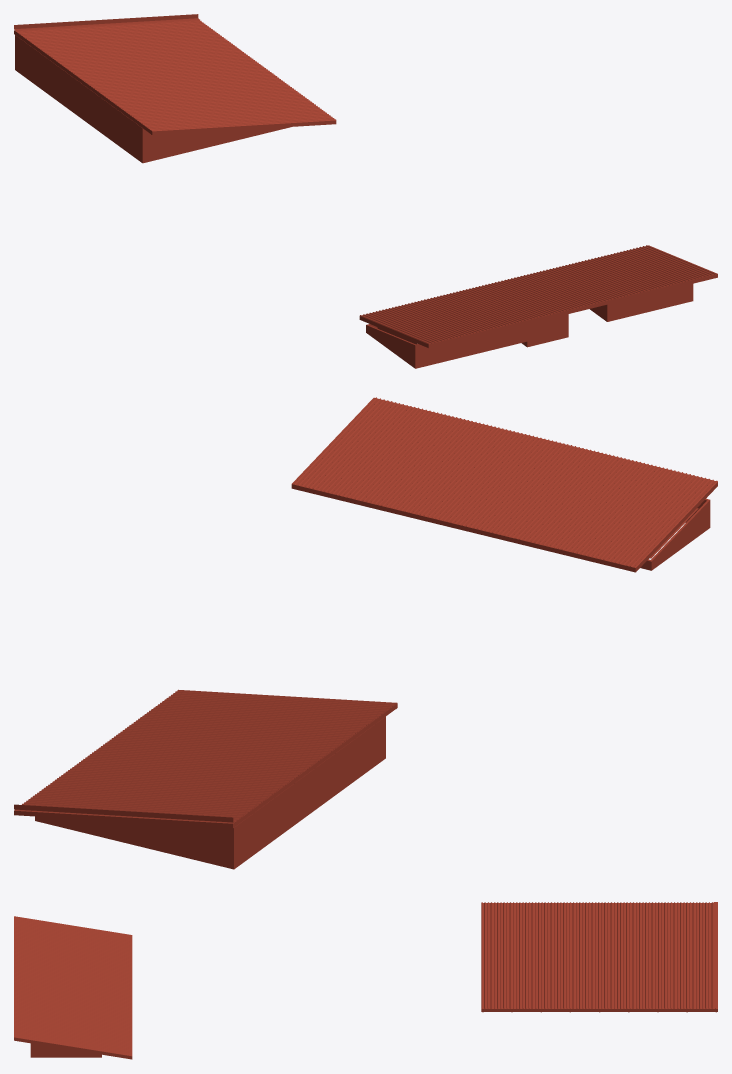
File: atappen.glb
The picture shows the model from 3 angles, top to bottom: view 1: azimuth 30°, elevation 25°; view 2: azimuth 150°, elevation 25°; view 3: azimuth 270°, elevation 25°; orthographic projection. The views are drawn at different scales.
Parts seen in each view (by area): view 1: atappen; view 2: atappen; view 3: atappen.
Part boxes in pixels (x1,y1,x2,y2): atappen: (14, 14, 717, 368); atappen: (14, 397, 717, 869); atappen: (14, 902, 717, 1059).
Size of the model in its own units: 10.6 by 1.94 by 25.76.
